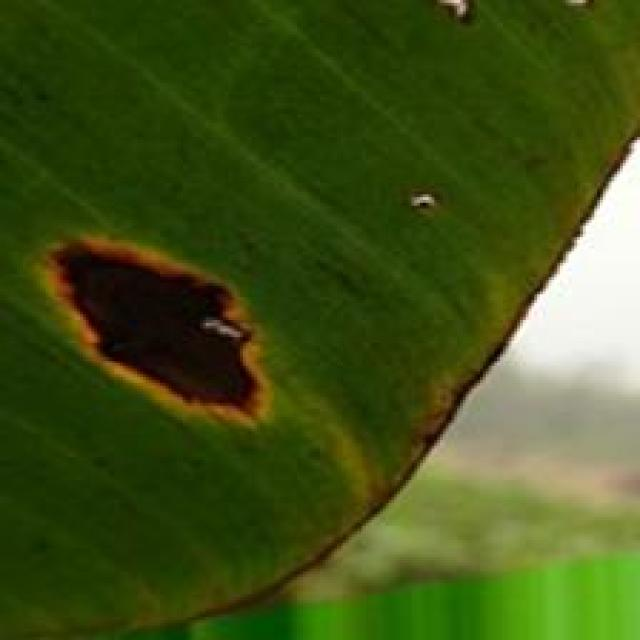Bacterial_spot: (37, 217, 281, 428), (392, 182, 452, 221), (431, 0, 491, 34), (556, 0, 606, 12)
